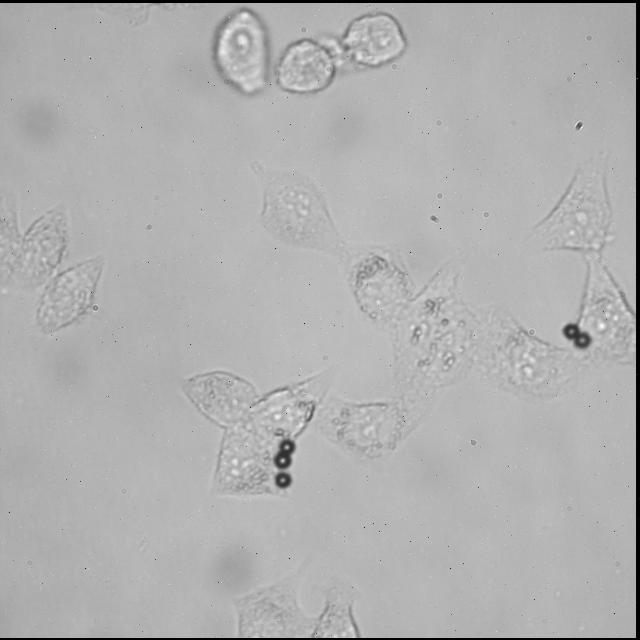microbeads: (268, 468, 292, 488), (558, 319, 580, 339), (574, 328, 594, 349), (280, 434, 298, 454), (274, 449, 292, 467)
